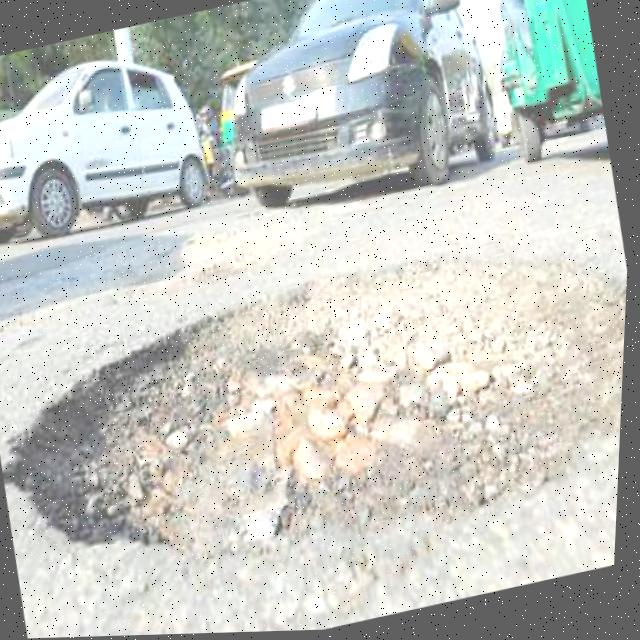Pothole: (0, 207, 632, 617), (154, 210, 308, 294)
